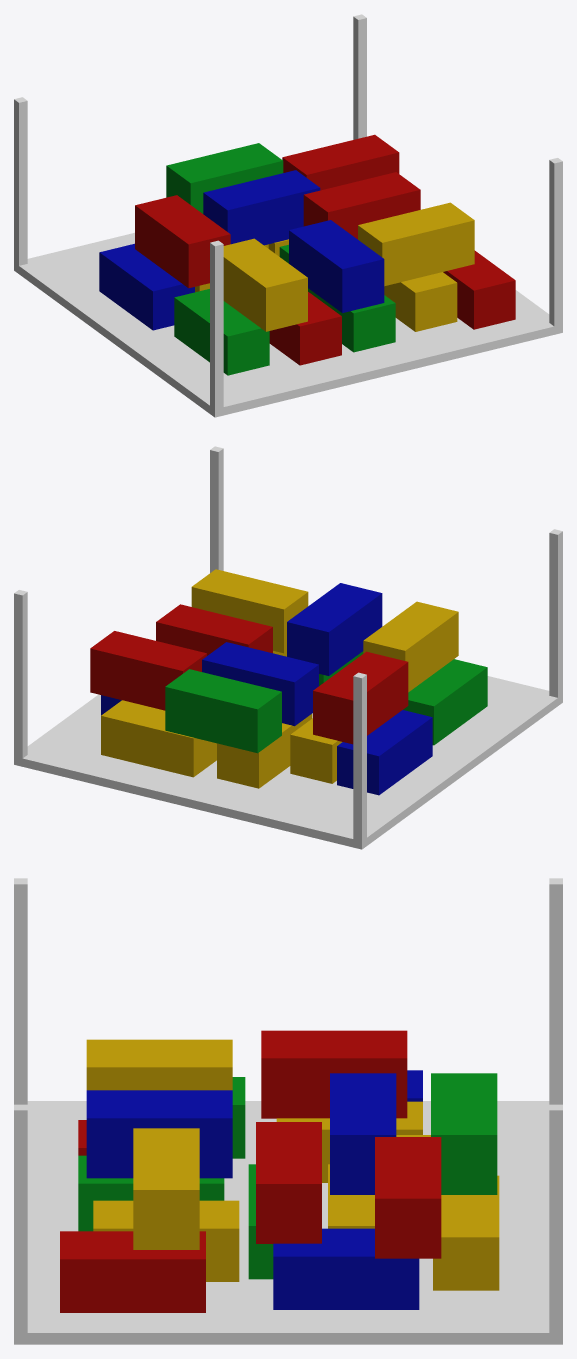
The model's file is supplies.fbx.
3 renders of one model, top to bottom at view 1: azimuth 30°, elevation 25°; view 2: azimuth 150°, elevation 25°; view 3: azimuth 270°, elevation 25°, orthographic. The views are drawn at different scales.
Parts seen in each view (by area): view 1: Cube, Cube.017, Cube.012, Cube.013, Cube.020, Cube.014, Cube.008, Cube.016, Cube.009, Cube.015, Cube.018, Cube.001 (+3 smaller); view 2: Cube, Cube.015, Cube.012, Cube.018, Cube.014, Cube.010, Cube.013, Cube.017, Cube.008, Cube.020, Cube.009, Cube.016 (+2 smaller); view 3: Cube, Cube.001, Cube.014, Cube.003, Cube.012, Cube.017, Cube.018, Cube.016, Cube.013, Cube.015, Cube.020, Cube.010 (+6 smaller).
Part boxes in pixels (x1=…): Cube: x1=14, y1=14, x2=562, y2=417; Cube.017: x1=358, y1=202, x2=474, y2=286; Cube.012: x1=289, y1=220, x2=384, y2=312; Cube.013: x1=223, y1=238, x2=307, y2=331; Cube.020: x1=203, y1=170, x2=320, y2=245; Cube.014: x1=135, y1=195, x2=230, y2=288; Cube.008: x1=99, y1=243, x2=194, y2=330; Cube.016: x1=303, y1=172, x2=420, y2=239; Cube.009: x1=174, y1=289, x2=269, y2=375; Cube.015: x1=166, y1=143, x2=283, y2=213; Cube.018: x1=282, y1=134, x2=399, y2=190; Cube.001: x1=443, y1=250, x2=515, y2=329; Cube: x1=14, y1=446, x2=562, y2=849; Cube.015: x1=165, y1=669, x2=281, y2=753; Cube.012: x1=287, y1=583, x2=382, y2=675; Cube.018: x1=90, y1=631, x2=206, y2=710; Cube.014: x1=313, y1=651, x2=408, y2=744; Cube.010: x1=101, y1=700, x2=216, y2=777; Cube.013: x1=363, y1=601, x2=458, y2=692; Cube.017: x1=191, y1=569, x2=308, y2=653; Cube.008: x1=337, y1=710, x2=432, y2=795; Cube.020: x1=202, y1=642, x2=318, y2=726; Cube.009: x1=403, y1=659, x2=487, y2=745; Cube.016: x1=156, y1=604, x2=272, y2=655; Cube: x1=14, y1=878, x2=562, y2=1344; Cube.001: x1=60, y1=1231, x2=205, y2=1312; Cube.014: x1=261, y1=1030, x2=407, y2=1118; Cube.003: x1=273, y1=1228, x2=419, y2=1309; Cube.012: x1=86, y1=1090, x2=232, y2=1178; Cube.017: x1=133, y1=1128, x2=199, y2=1249; Cube.018: x1=375, y1=1137, x2=441, y2=1258; Cube.016: x1=256, y1=1122, x2=321, y2=1243; Cube.013: x1=86, y1=1039, x2=232, y2=1090; Cube.015: x1=431, y1=1073, x2=497, y2=1194; Cube.020: x1=330, y1=1073, x2=396, y2=1194; Cube.010: x1=433, y1=1175, x2=499, y2=1290.
Bounding box in the file's own units: 320 × 150 × 320.
